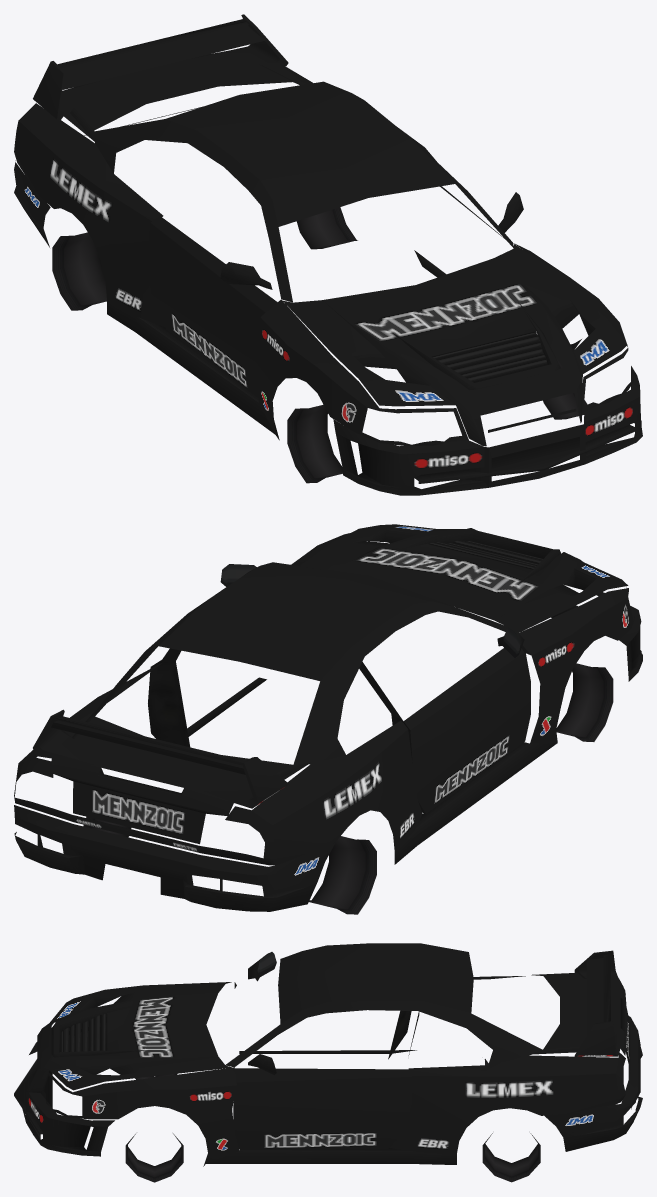
The model's file is car-MSCL_Car2.glb.
3 views of the same model, one above another, from view 1: azimuth 30°, elevation 25°; view 2: azimuth 150°, elevation 25°; view 3: azimuth 270°, elevation 25° (orthographic). The views are drawn at different scales.
Visible parts, largest first — view 1: MSCL_Car2; view 2: MSCL_Car2; view 3: MSCL_Car2.
Part boxes in pixels (x1=…): MSCL_Car2: x1=14, y1=14, x2=642, y2=495; MSCL_Car2: x1=14, y1=524, x2=642, y2=914; MSCL_Car2: x1=14, y1=943, x2=642, y2=1182.
Size of the model in its own units: 1.98 by 1.35 by 4.77.
Materials: 19 (19 with a texture image).
